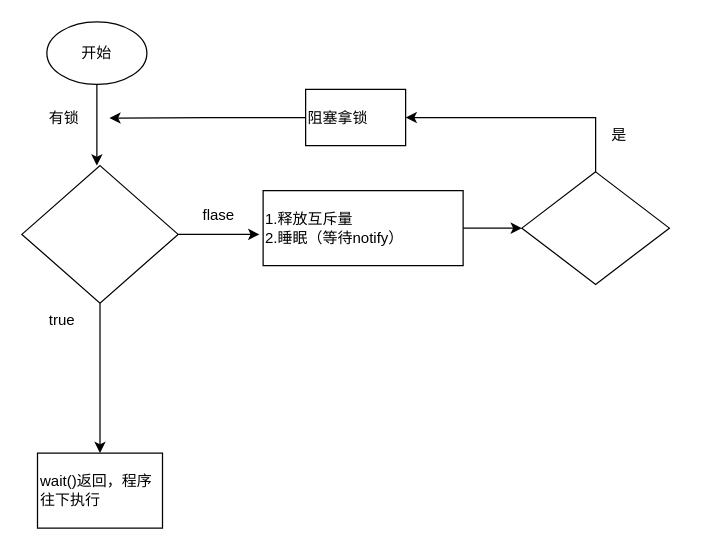
This 706x550 diagram has some shape labels left out. Here are the shapes that lost their labels. From the top down, the centre of each, then its label:
(x=99, y=233): wait()第二参数
(x=595, y=227): 是否被notify()
